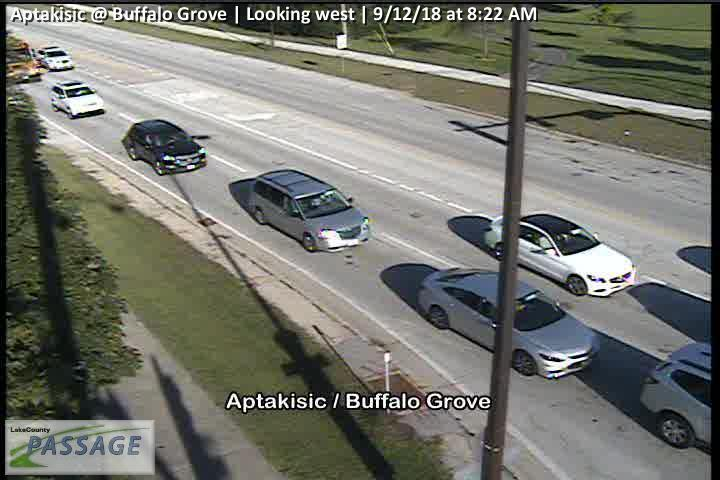SUV: (251, 170, 370, 252)
Sedan: (418, 268, 600, 380), (485, 212, 636, 297), (639, 342, 713, 450), (126, 120, 208, 176), (50, 80, 104, 117), (37, 46, 73, 71)
